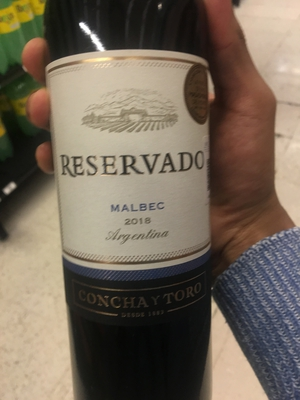reservado malbec: (45, 4, 225, 400)
